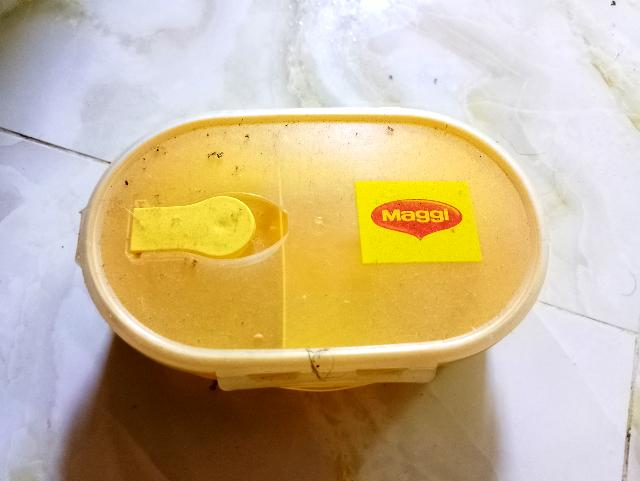hardplastic: (70, 86, 580, 415)
